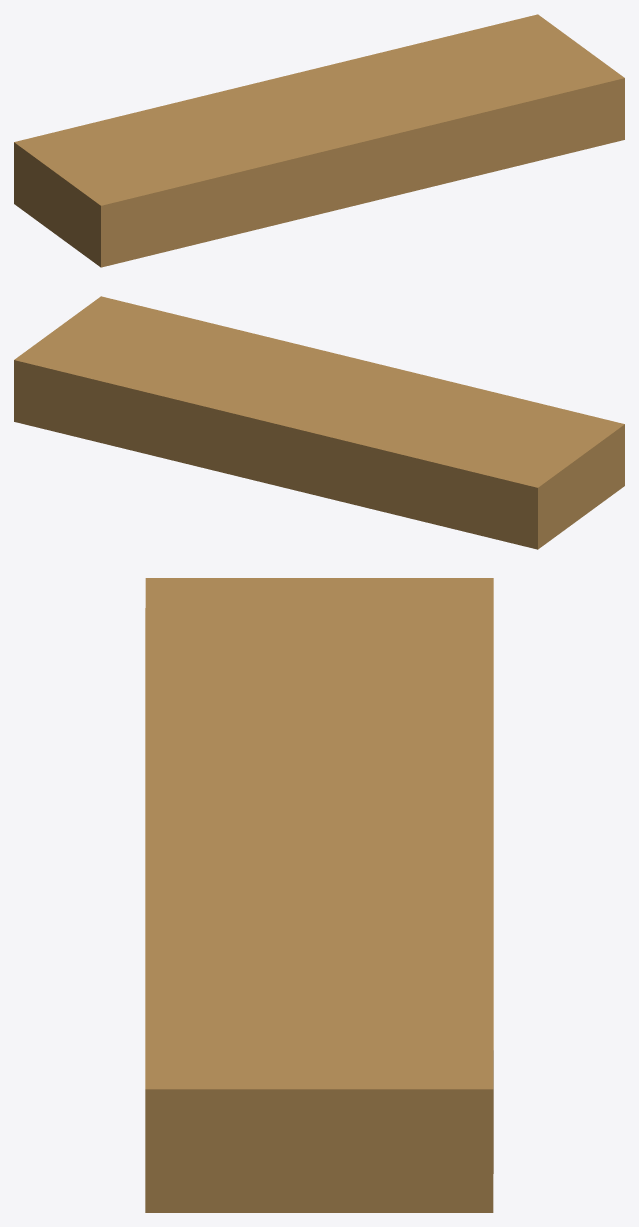
3 renders of one model, top to bottom at view 1: azimuth 30°, elevation 25°; view 2: azimuth 150°, elevation 25°; view 3: azimuth 270°, elevation 25°, orthographic. The views are drawn at different scales.
Visible parts, largest first — view 1: RUN-038-S00-ribbon; view 2: RUN-038-S00-ribbon; view 3: RUN-038-S00-ribbon.
Boxes of the visible parts, bbox=[...] form: RUN-038-S00-ribbon: bbox=[14, 14, 624, 267]; RUN-038-S00-ribbon: bbox=[14, 296, 624, 549]; RUN-038-S00-ribbon: bbox=[145, 578, 493, 1212].
Bounding box in the file's own units: 0.3105 × 0.035 × 0.0894.
